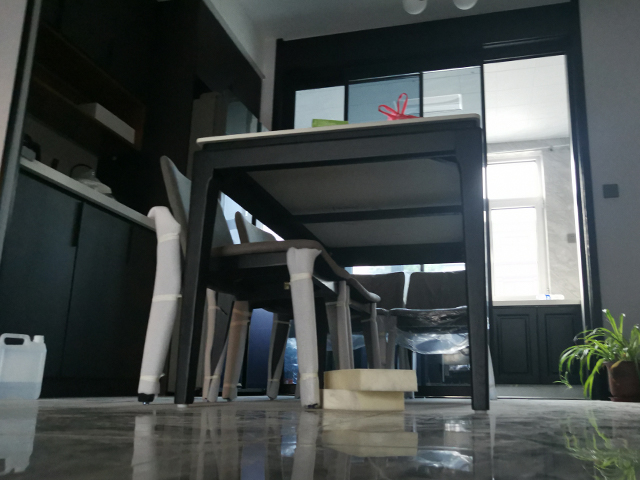cabinet: (1, 1, 268, 400), (487, 299, 587, 393)
stool: (133, 153, 346, 414), (232, 210, 387, 401), (388, 264, 490, 396)
table: (173, 112, 492, 414)
